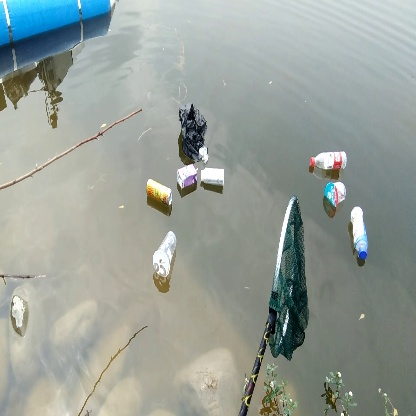bottle: (149, 230, 179, 282), (348, 205, 370, 261), (141, 179, 174, 208), (307, 151, 349, 172)
milk-box: (173, 162, 197, 196), (201, 165, 227, 187)
plastic-bag: (175, 103, 211, 160)
